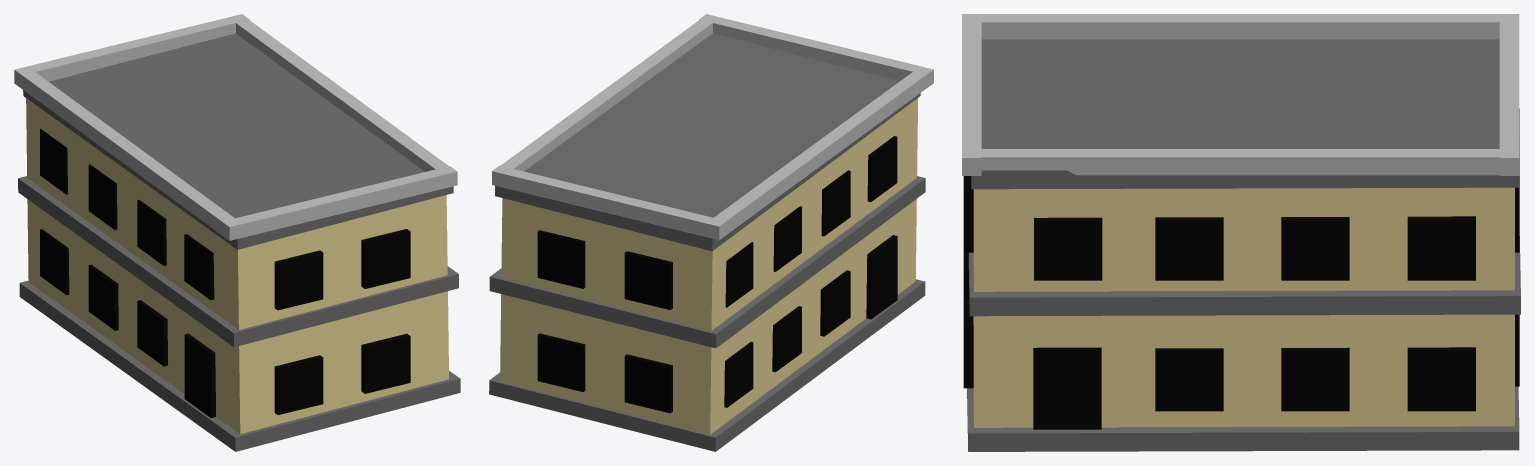
Rendered from building.fbx.
3 views of the same model, side by side, from view 1: azimuth 30°, elevation 25°; view 2: azimuth 150°, elevation 25°; view 3: azimuth 270°, elevation 25° (orthographic). The views are drawn at different scales.
Visible parts, largest first — view 1: Cube.030; view 2: Cube.030; view 3: Cube.030.
Part boxes in pixels (x1=…): Cube.030: x1=14, y1=14, x2=460, y2=451; Cube.030: x1=489, y1=14, x2=933, y2=451; Cube.030: x1=962, y1=14, x2=1520, y2=451.
Bounding box in the file's own units: 3442 × 3208 × 5511.
